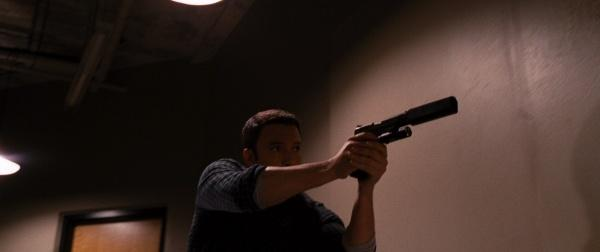Gun: (349, 95, 460, 180)
